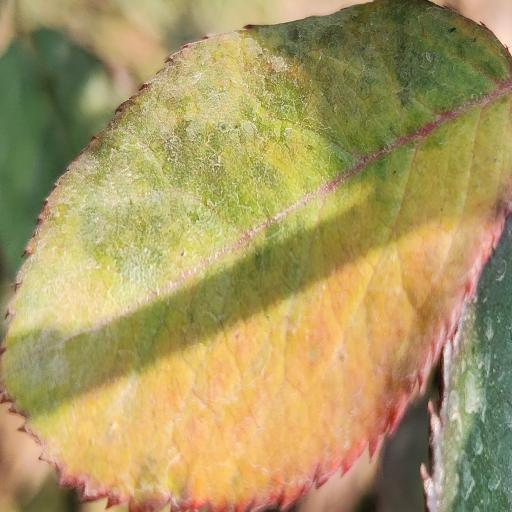red_mite: (0, 0, 512, 510)
